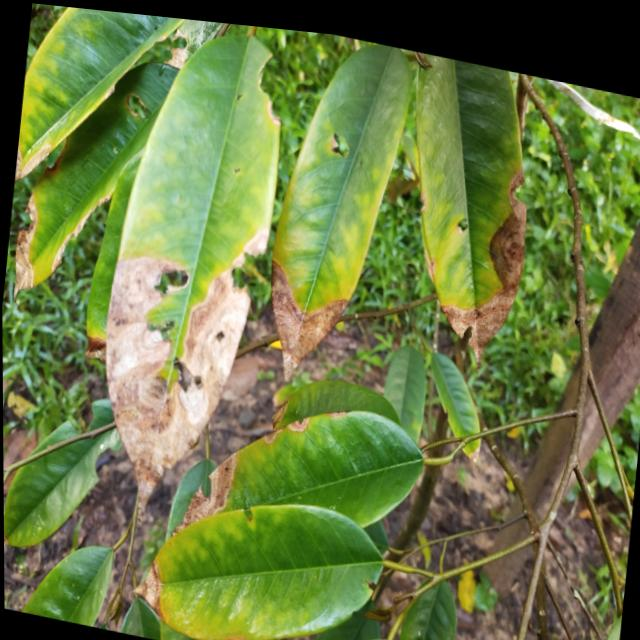Leaf Blight: (64, 205, 280, 538), (401, 147, 545, 374), (258, 254, 363, 388), (1, 180, 79, 320), (12, 122, 63, 209), (124, 546, 179, 620), (419, 623, 476, 640)
